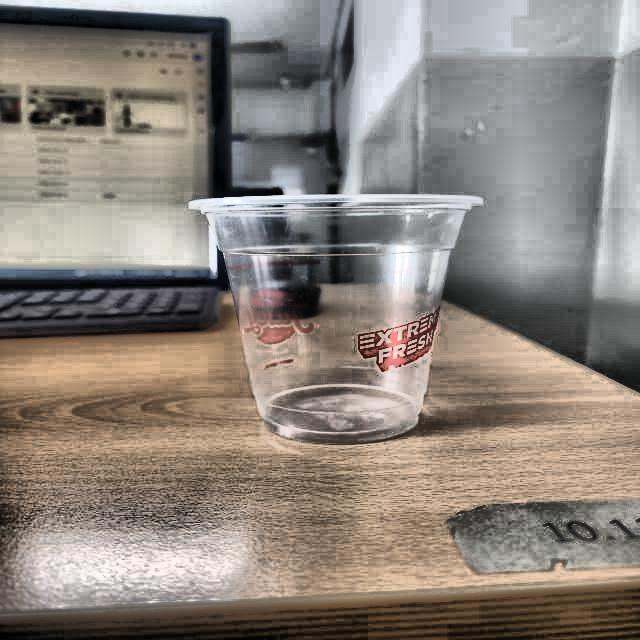plastic cup: (188, 190, 487, 444)
